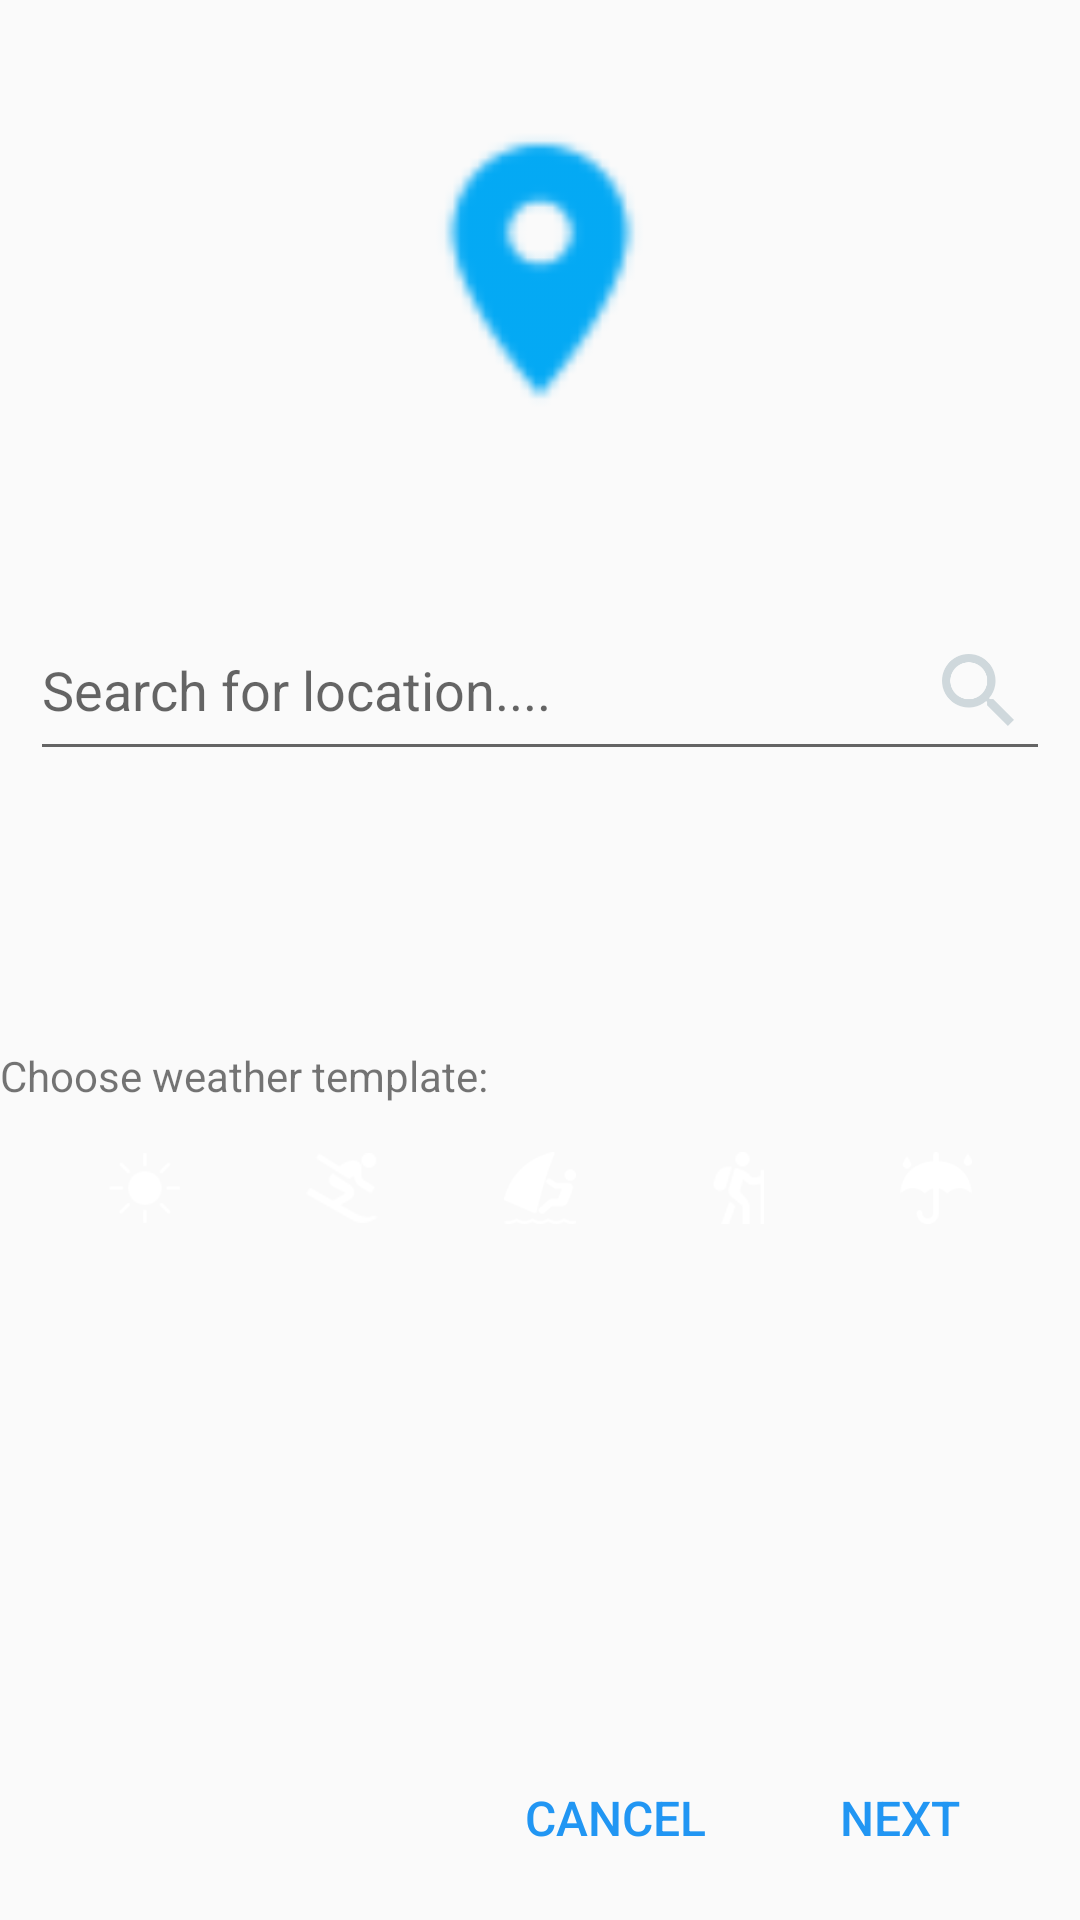

Screen size 1080px x 1920px. Icon name, then its box in pixels as (x1, y1, x2, y2):
Choose location for alerts: (445, 141, 635, 398)
